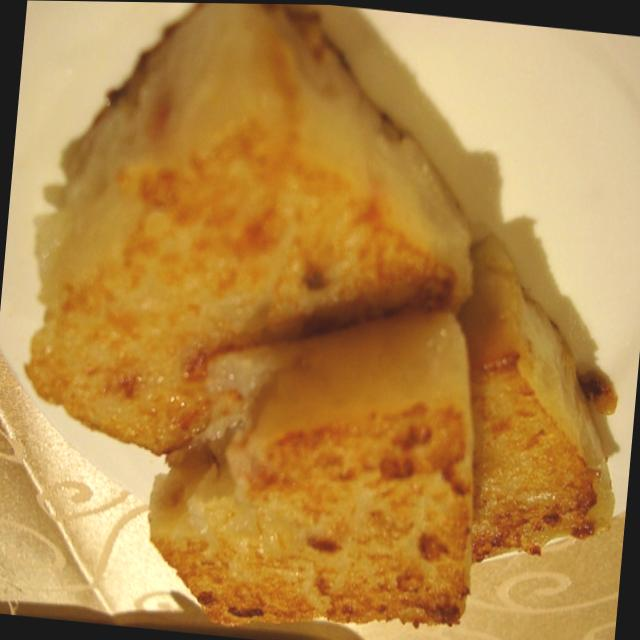蛋糕甜品: (5, 11, 640, 640)
